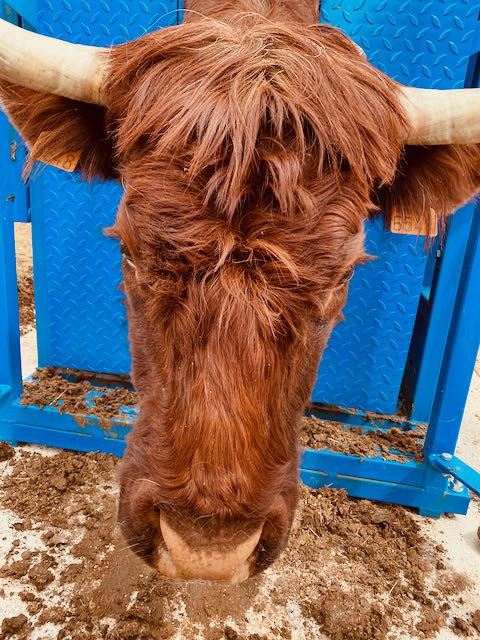muzzles: (110, 477, 300, 587)
